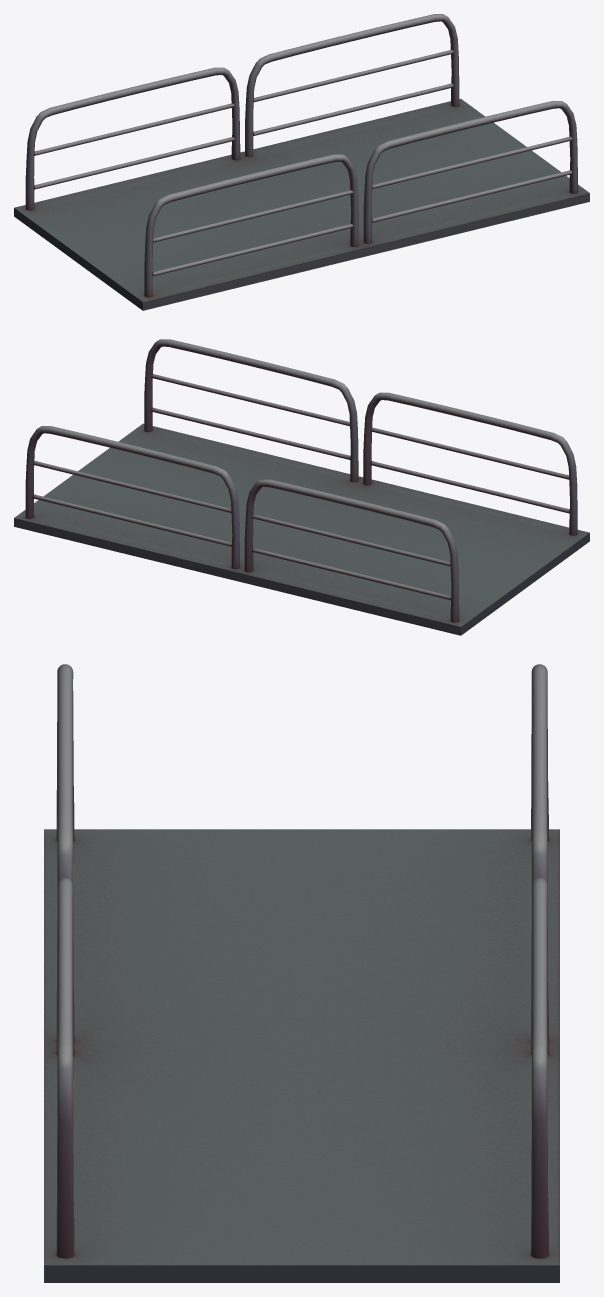
The model's file is platform1.glb.
The picture shows the model from 3 angles, top to bottom: view 1: azimuth 30°, elevation 25°; view 2: azimuth 150°, elevation 25°; view 3: azimuth 270°, elevation 25°; orthographic projection. The views are drawn at different scales.
Visible parts, largest first — view 1: Platform1; view 2: Platform1; view 3: Platform1.
Boxes of the visible parts, box(x1,y1,x2,y2) form: Platform1: box(14, 14, 589, 310); Platform1: box(14, 339, 589, 635); Platform1: box(44, 664, 559, 1282).
Size of the model in its own units: 4 by 0.9057 by 2.
1 material, 1 textured.
